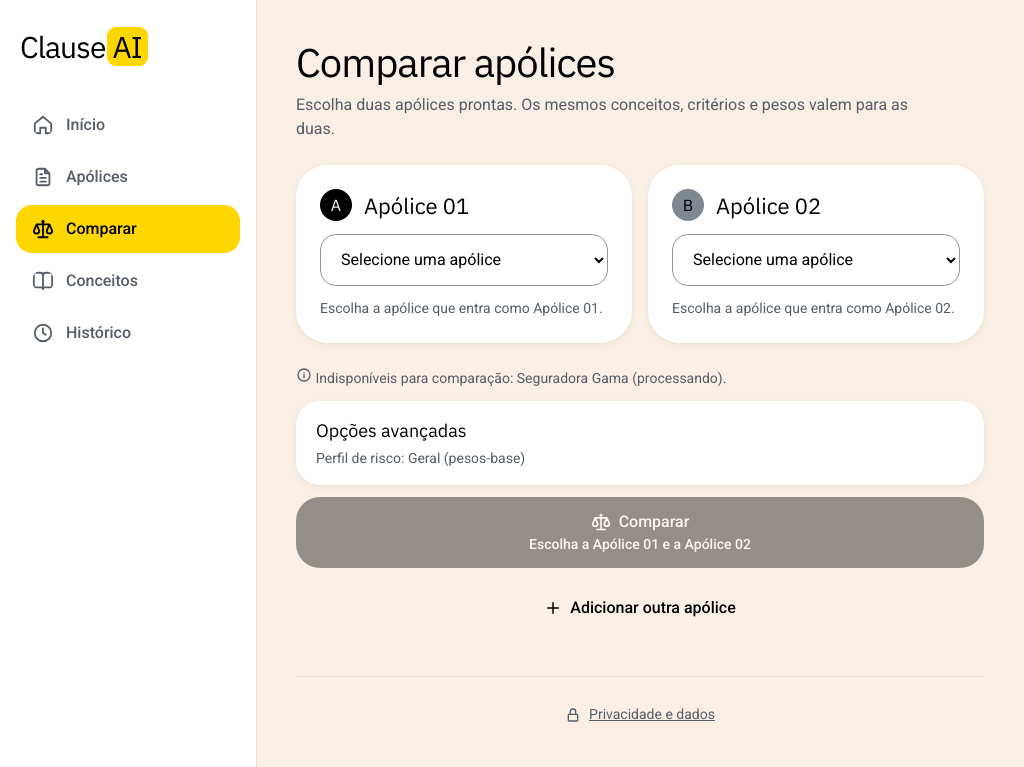
Comparar › alerta quando as duas apólices são iguais
Select "Seguradora Alfa — D&O Alfa · apolice.pdf" in the dropdown labelled "A Apólice 01" at (464, 260), box [320,234,608,286]
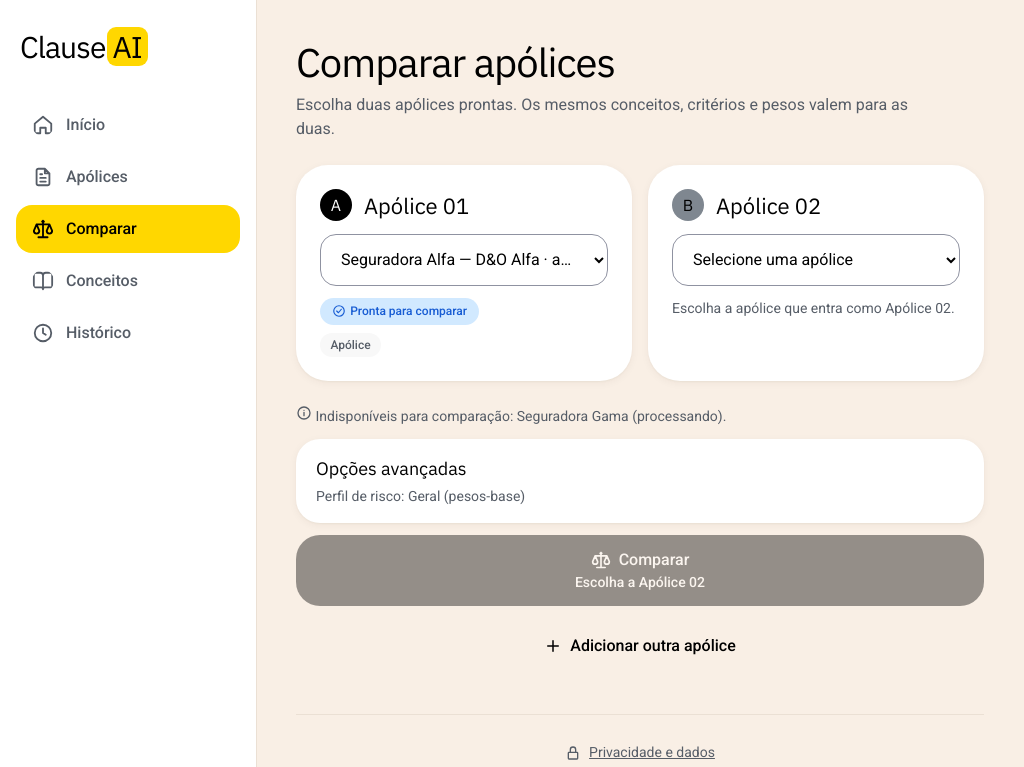
Select "Seguradora Alfa — D&O Alfa · apolice.pdf" in the dropdown labelled "B Apólice 02" at (816, 260), box [672,234,960,286]
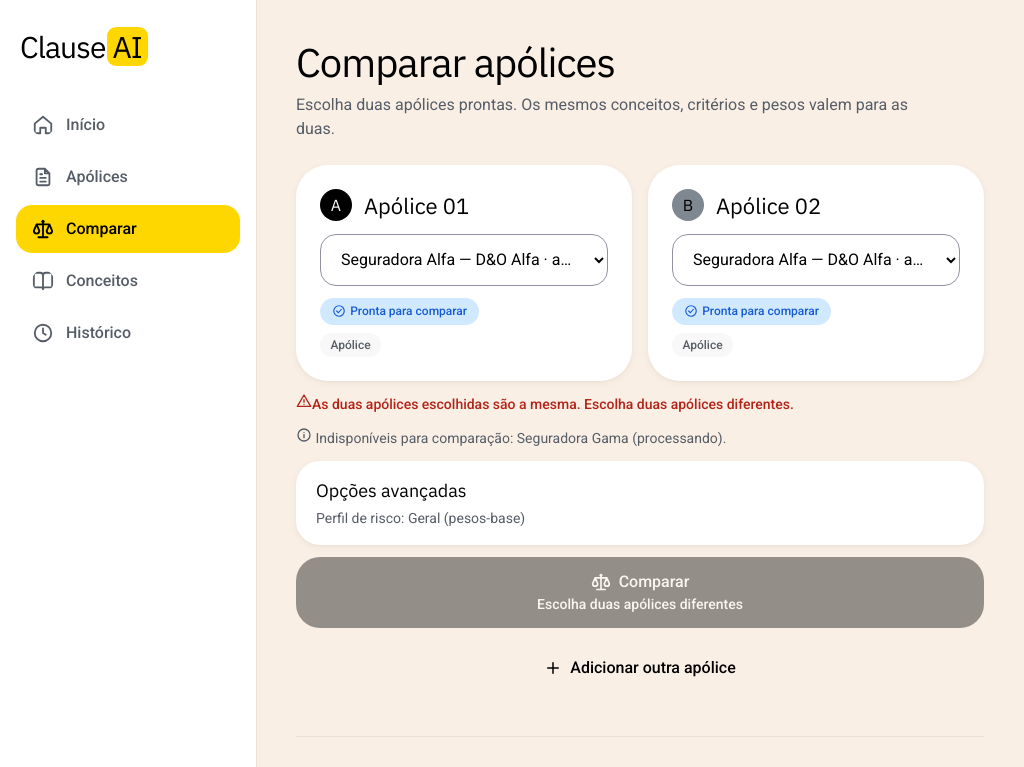
Check: the button "Comparar Escolha duas apólices diferentes" is disabled, box [296,557,984,628]
Check: the message shows "Escolha duas apólices diferentes", box [312,396,794,412]
